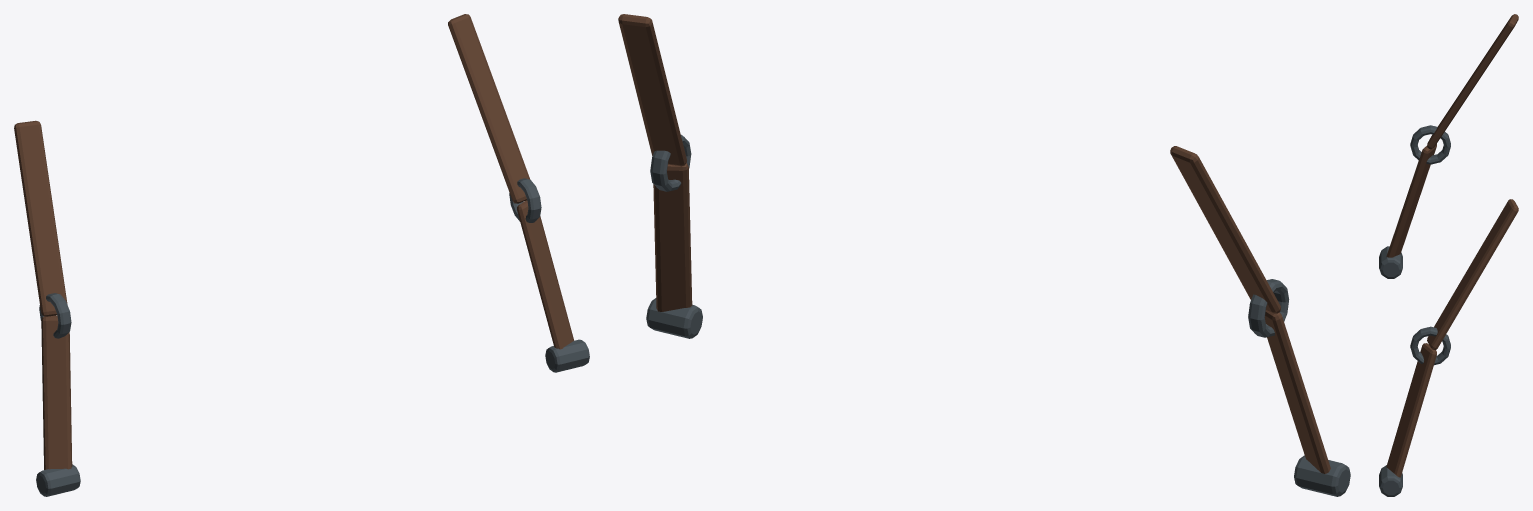
The model's file is cart_traces.glb.
3 renders of one model, left to right at view 1: azimuth 30°, elevation 25°; view 2: azimuth 150°, elevation 25°; view 3: azimuth 270°, elevation 25°, orthographic. The views are drawn at different scales.
Parts seen in each view (by area): view 1: cart_traces__structure, cart_traces__attachments; view 2: cart_traces__structure, cart_traces__attachments; view 3: cart_traces__structure, cart_traces__attachments.
Boxes of the visible parts, <box> form: cart_traces__structure: <box>14,14,573,469</box>; cart_traces__attachments: <box>36,178,589,496</box>; cart_traces__structure: <box>618,14,1330,473</box>; cart_traces__attachments: <box>646,134,1350,496</box>; cart_traces__structure: <box>1386,14,1518,477</box>; cart_traces__attachments: <box>1379,125,1450,496</box>.
Bounding box in the file's own units: 1.11 × 0.6036 × 0.2815.
